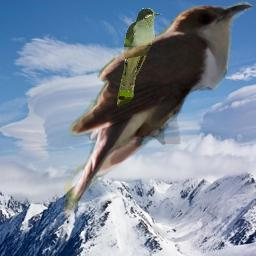Cuckoo: (64, 0, 253, 226), (117, 8, 161, 107)
